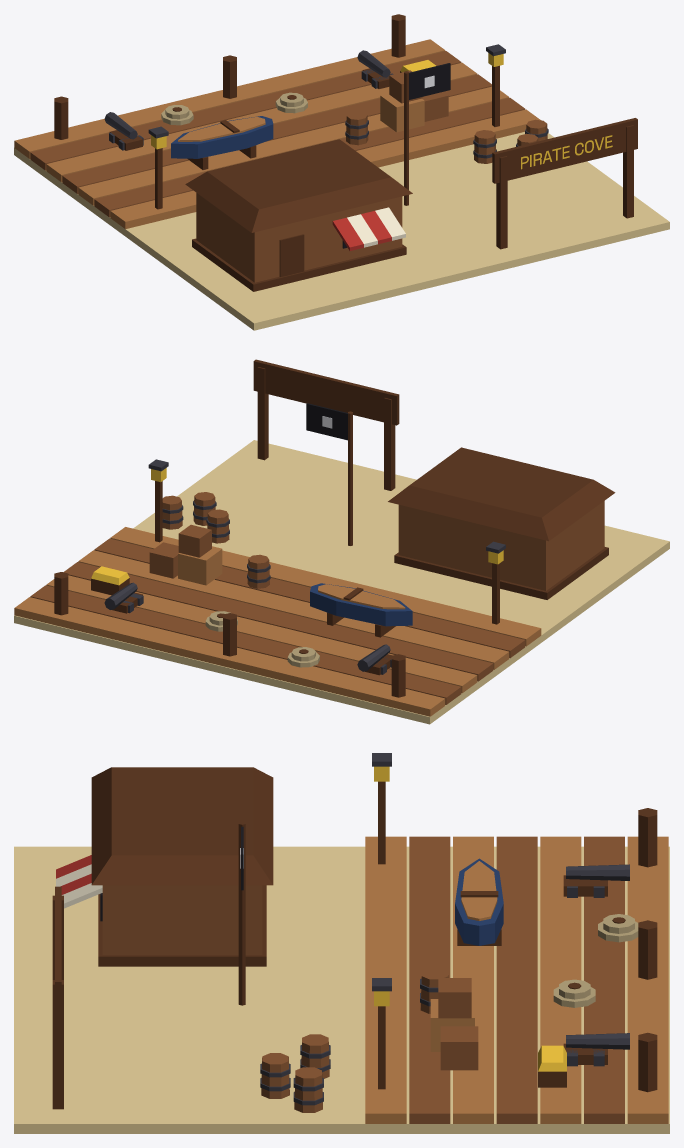
Rendered from pirate-cove-t1.glb.
The picture shows the model from 3 angles, top to bottom: view 1: azimuth 30°, elevation 25°; view 2: azimuth 150°, elevation 25°; view 3: azimuth 270°, elevation 25°; orthographic projection. The views are drawn at different scales.
Visible parts, largest first — view 1: PirateCoveT1; view 2: PirateCoveT1; view 3: PirateCoveT1.
Part boxes in pixels (<box>): PirateCoveT1: <box>14,14,669,330</box>; PirateCoveT1: <box>14,359,669,724</box>; PirateCoveT1: <box>14,753,669,1133</box>.
Size of the model in its own units: 2.96 by 0.95 by 2.96.
1 material, 1 textured.
